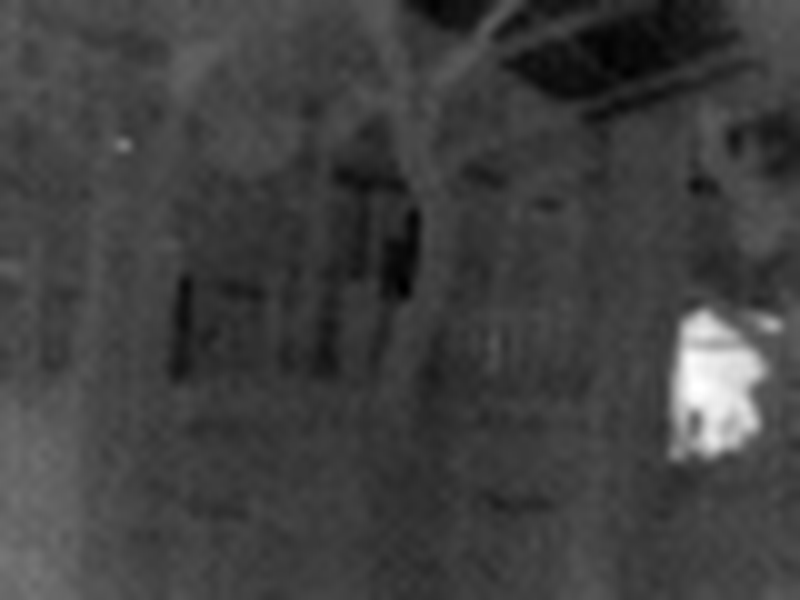elephant: (654, 291, 771, 464)
